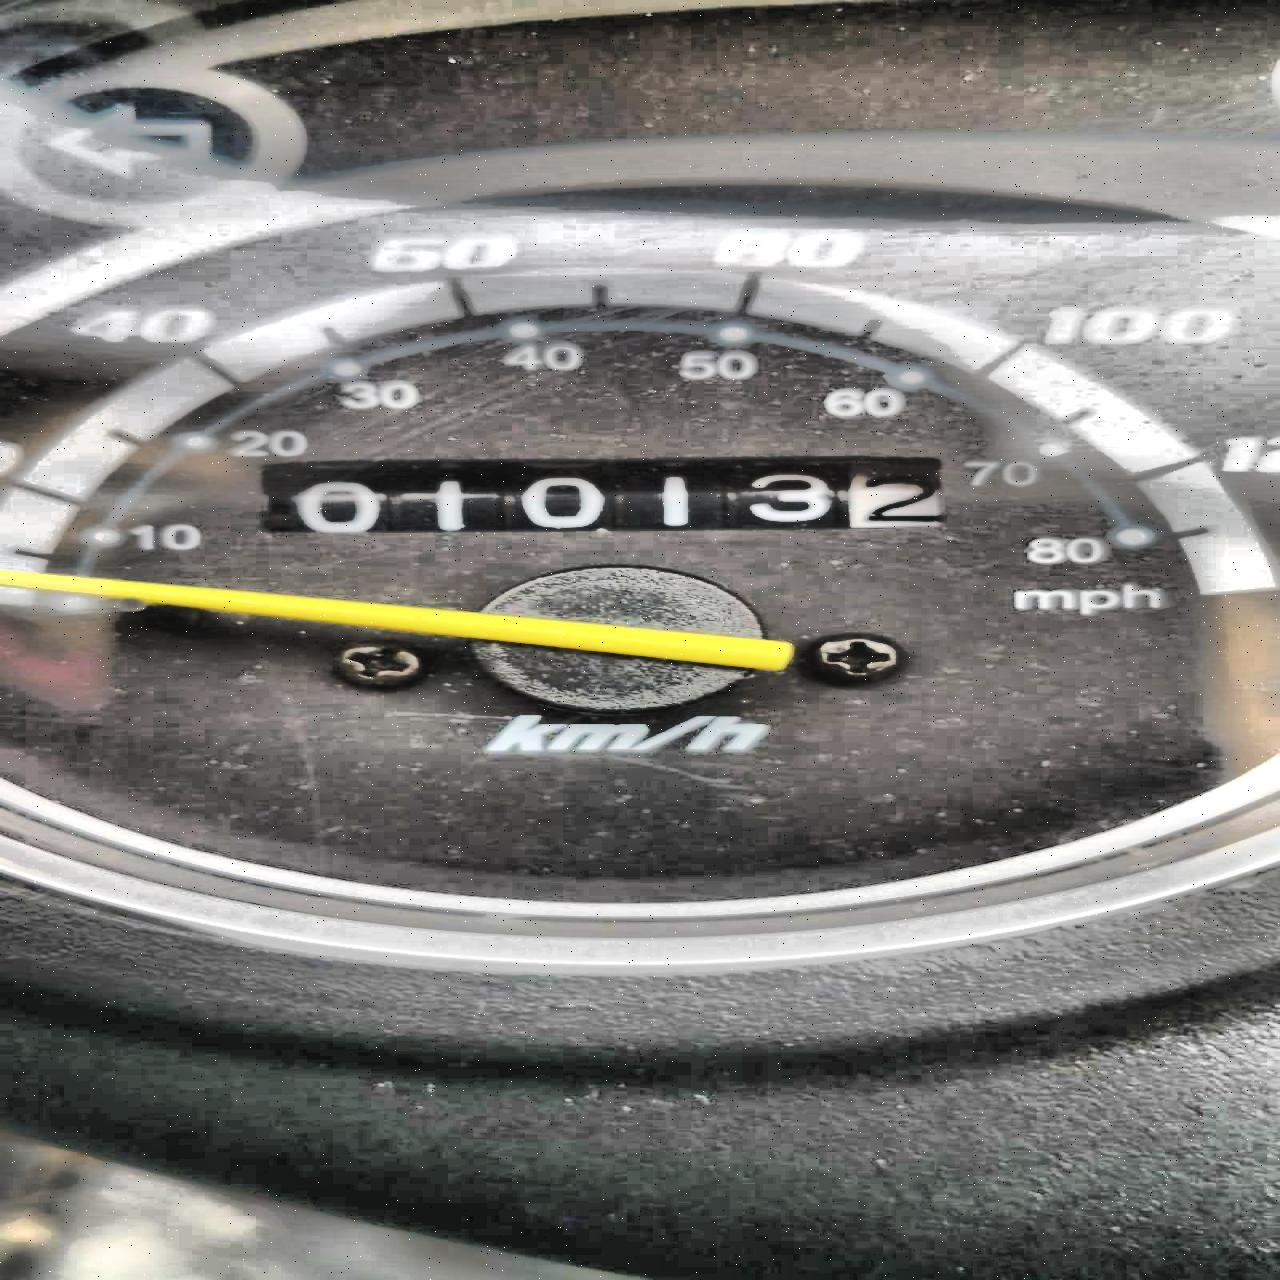0: (508, 465, 606, 543), (286, 475, 382, 542)
1: (420, 468, 482, 540), (647, 467, 706, 543)
2: (858, 467, 947, 527)
3: (741, 467, 833, 532)
odometer: (252, 449, 967, 565)
